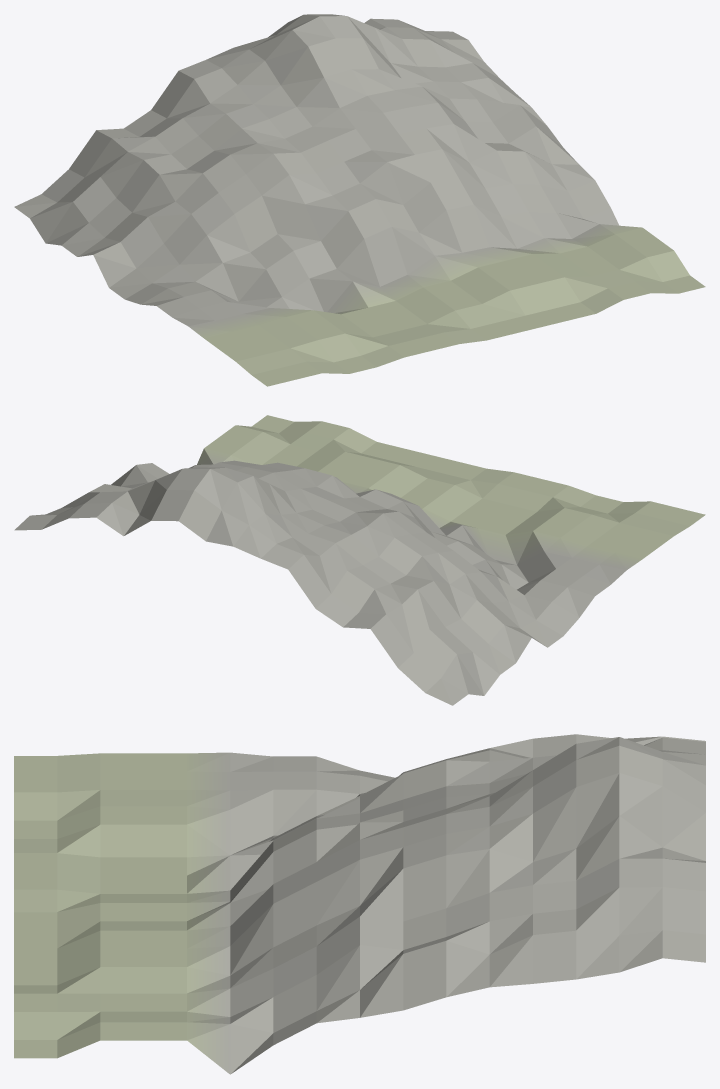
3 renders of one model, top to bottom at view 1: azimuth 30°, elevation 25°; view 2: azimuth 150°, elevation 25°; view 3: azimuth 270°, elevation 25°, orthographic. The views are drawn at different scales.
Bounding box in the file's own units: 32 × 11.19 × 32.
